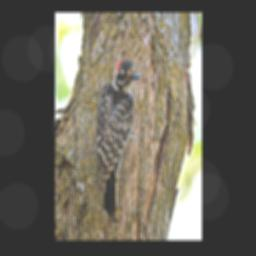Woodpecker: (99, 57, 140, 224)
